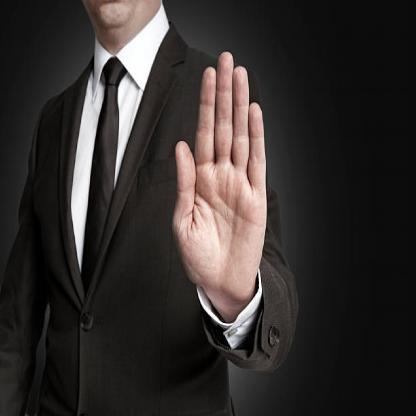stop: (171, 48, 270, 290)
